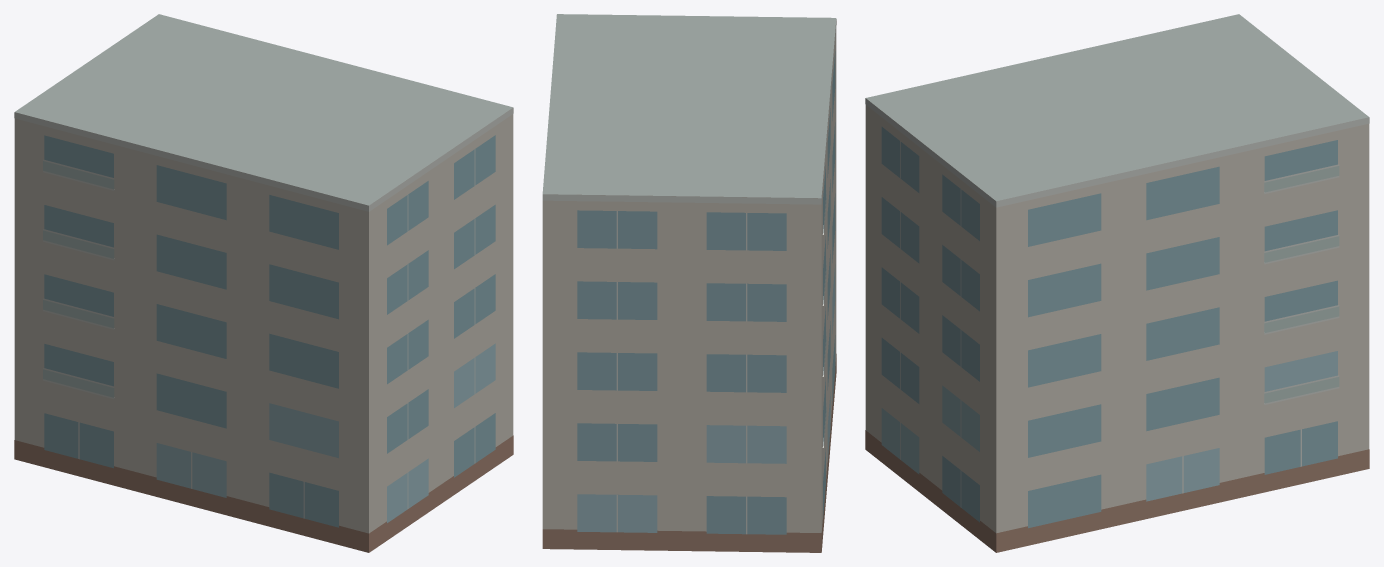
File: survey-upis-32882518.glb
The picture shows the model from 3 angles, left to right: view 1: azimuth 30°, elevation 25°; view 2: azimuth 150°, elevation 25°; view 3: azimuth 270°, elevation 25°; orthographic projection. The views are drawn at different scales.
Parts seen in each view (by area): view 1: survey-upis-32882518.tmp; view 2: survey-upis-32882518.tmp; view 3: survey-upis-32882518.tmp.
Boxes of the visible parts, box(x1,y1,x2,y2) form: survey-upis-32882518.tmp: box(14, 14, 513, 552); survey-upis-32882518.tmp: box(542, 14, 836, 552); survey-upis-32882518.tmp: box(865, 14, 1369, 552).
Bounding box in the file's own units: 15.37 × 13.45 × 17.48.
